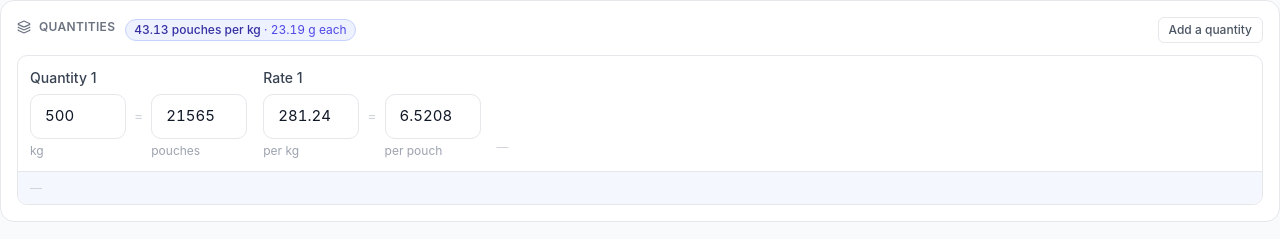
Scenario: QuantityFields › fills the rate per kilogram in when the haggling is done per pouch
The image size is (1280, 239).
Replace the text in the field named "rate 1 per pouch" with "6.5" at (432, 116), box left=384, top=94, right=480, bottom=138
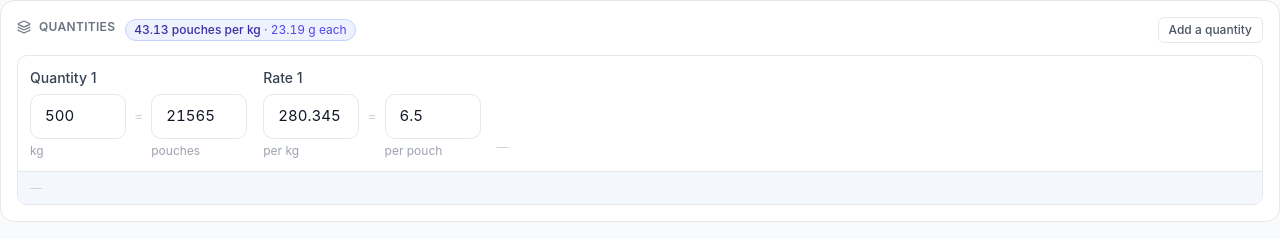
Expected: the field labelled "Rate 1" holds "280.345", left=263, top=94, right=359, bottom=138
